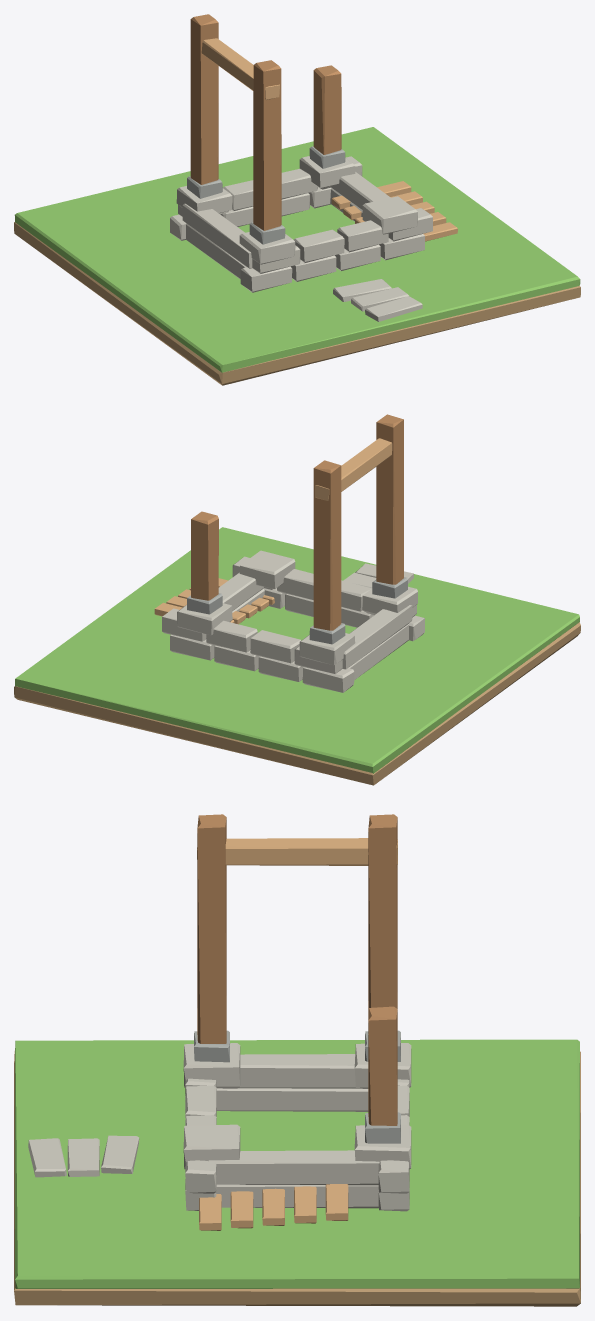
Rendered from tower_l02_construction_LOD1.glb.
The picture shows the model from 3 angles, top to bottom: view 1: azimuth 30°, elevation 25°; view 2: azimuth 150°, elevation 25°; view 3: azimuth 270°, elevation 25°; orthographic projection. The views are drawn at different scales.
Parts seen in each view (by area): view 1: tower_l02_grass_tile_tower_l02_construction_LOD1_tmp, tower_l02_earth_tile_tower_l02_construction_LOD1_tmp, post_-0.61_-0.54_tower_l02_construction_LOD1_tmp, post_-0.61_0.54_tower_l02_construction_LOD1_tmp, post_0.61_0.54_tower_l02_construction_LOD1_tmp, stone_return_1_-0.72_tower_l02_construction_LOD1_tmp, foot_0.61_-0.54_tower_l02_construction_LOD1_tmp, temporary_crossbar_tower_l02_construction_LOD1_tmp, stone_course_1_-1_1_tower_l02_construction_LOD1_tmp, foot_-0.61_-0.54_tower_l02_construction_LOD1_tmp, stone_course_1_-1_2_tower_l02_construction_LOD1_tmp, stone_return_1_0.72_tower_l02_construction_LOD1_tmp (+19 smaller); view 2: tower_l02_grass_tile_tower_l02_construction_LOD1_tmp, tower_l02_earth_tile_tower_l02_construction_LOD1_tmp, post_-0.61_0.54_tower_l02_construction_LOD1_tmp, post_-0.61_-0.54_tower_l02_construction_LOD1_tmp, post_0.61_0.54_tower_l02_construction_LOD1_tmp, stone_return_1_-0.72_tower_l02_construction_LOD1_tmp, temporary_crossbar_tower_l02_construction_LOD1_tmp, foot_0.61_-0.54_tower_l02_construction_LOD1_tmp, stone_course_1_1_1_tower_l02_construction_LOD1_tmp, foot_-0.61_0.54_tower_l02_construction_LOD1_tmp, foot_0.61_0.54_tower_l02_construction_LOD1_tmp, stone_course_1_1_2_tower_l02_construction_LOD1_tmp (+15 smaller); view 3: tower_l02_grass_tile_tower_l02_construction_LOD1_tmp, tower_l02_earth_tile_tower_l02_construction_LOD1_tmp, post_-0.61_-0.54_tower_l02_construction_LOD1_tmp, post_-0.61_0.54_tower_l02_construction_LOD1_tmp, stone_return_1_0.72_tower_l02_construction_LOD1_tmp, temporary_crossbar_tower_l02_construction_LOD1_tmp, stone_return_1_-0.72_tower_l02_construction_LOD1_tmp, stone_return_0_-0.72_tower_l02_construction_LOD1_tmp, post_0.61_0.54_tower_l02_construction_LOD1_tmp, foot_0.61_-0.54_tower_l02_construction_LOD1_tmp, stone_return_0_0.72_tower_l02_construction_LOD1_tmp, foot_-0.61_-0.54_tower_l02_construction_LOD1_tmp (+15 smaller).
Boxes of the visible parts, bbox=[...] form: tower_l02_grass_tile_tower_l02_construction_LOD1_tmp: bbox=[14, 127, 580, 372]; tower_l02_earth_tile_tower_l02_construction_LOD1_tmp: bbox=[14, 222, 580, 385]; post_-0.61_-0.54_tower_l02_construction_LOD1_tmp: bbox=[253, 60, 281, 230]; post_-0.61_0.54_tower_l02_construction_LOD1_tmp: bbox=[190, 14, 218, 184]; post_0.61_0.54_tower_l02_construction_LOD1_tmp: bbox=[313, 65, 341, 154]; stone_return_1_-0.72_tower_l02_construction_LOD1_tmp: bbox=[182, 203, 252, 268]; foot_0.61_-0.54_tower_l02_construction_LOD1_tmp: bbox=[362, 196, 417, 234]; temporary_crossbar_tower_l02_construction_LOD1_tmp: bbox=[201, 38, 279, 99]; stone_course_1_-1_1_tower_l02_construction_LOD1_tmp: bbox=[294, 229, 344, 262]; foot_-0.61_-0.54_tower_l02_construction_LOD1_tmp: bbox=[239, 232, 295, 264]; stone_course_1_-1_2_tower_l02_construction_LOD1_tmp: bbox=[337, 220, 388, 252]; stone_return_1_0.72_tower_l02_construction_LOD1_tmp: bbox=[330, 172, 390, 210]; tower_l02_grass_tile_tower_l02_construction_LOD1_tmp: bbox=[15, 527, 579, 773]; tower_l02_earth_tile_tower_l02_construction_LOD1_tmp: bbox=[14, 622, 580, 785]; post_-0.61_0.54_tower_l02_construction_LOD1_tmp: bbox=[313, 460, 341, 630]; post_-0.61_-0.54_tower_l02_construction_LOD1_tmp: bbox=[376, 414, 403, 584]; post_0.61_0.54_tower_l02_construction_LOD1_tmp: bbox=[191, 511, 218, 600]; stone_return_1_-0.72_tower_l02_construction_LOD1_tmp: bbox=[342, 605, 412, 669]; temporary_crossbar_tower_l02_construction_LOD1_tmp: bbox=[315, 438, 392, 500]; foot_0.61_-0.54_tower_l02_construction_LOD1_tmp: bbox=[239, 550, 295, 589]; stone_course_1_1_1_tower_l02_construction_LOD1_tmp: bbox=[250, 630, 300, 663]; foot_-0.61_0.54_tower_l02_construction_LOD1_tmp: bbox=[299, 633, 355, 665]; foot_0.61_0.54_tower_l02_construction_LOD1_tmp: bbox=[177, 603, 232, 635]; stone_course_1_1_2_tower_l02_construction_LOD1_tmp: bbox=[206, 620, 257, 652]; tower_l02_grass_tile_tower_l02_construction_LOD1_tmp: bbox=[15, 1039, 579, 1288]; tower_l02_earth_tile_tower_l02_construction_LOD1_tmp: bbox=[14, 1051, 580, 1306]; post_-0.61_-0.54_tower_l02_construction_LOD1_tmp: bbox=[197, 814, 226, 1043]; post_-0.61_0.54_tower_l02_construction_LOD1_tmp: bbox=[368, 814, 397, 1018]; stone_return_1_0.72_tower_l02_construction_LOD1_tmp: bbox=[208, 1150, 379, 1185]; temporary_crossbar_tower_l02_construction_LOD1_tmp: bbox=[197, 838, 397, 865]; stone_return_1_-0.72_tower_l02_construction_LOD1_tmp: bbox=[238, 1054, 368, 1088]; stone_return_0_-0.72_tower_l02_construction_LOD1_tmp: bbox=[216, 1088, 368, 1111]; post_0.61_0.54_tower_l02_construction_LOD1_tmp: bbox=[368, 1006, 397, 1125]; foot_0.61_-0.54_tower_l02_construction_LOD1_tmp: bbox=[183, 1124, 240, 1169]; stone_return_0_0.72_tower_l02_construction_LOD1_tmp: bbox=[216, 1184, 378, 1208]; foot_-0.61_-0.54_tower_l02_construction_LOD1_tmp: bbox=[183, 1043, 240, 1088].
Size of the model in its own units: 3.6 by 2.29 by 3.58.
